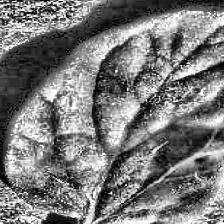leaf mold: (3, 11, 224, 224)
